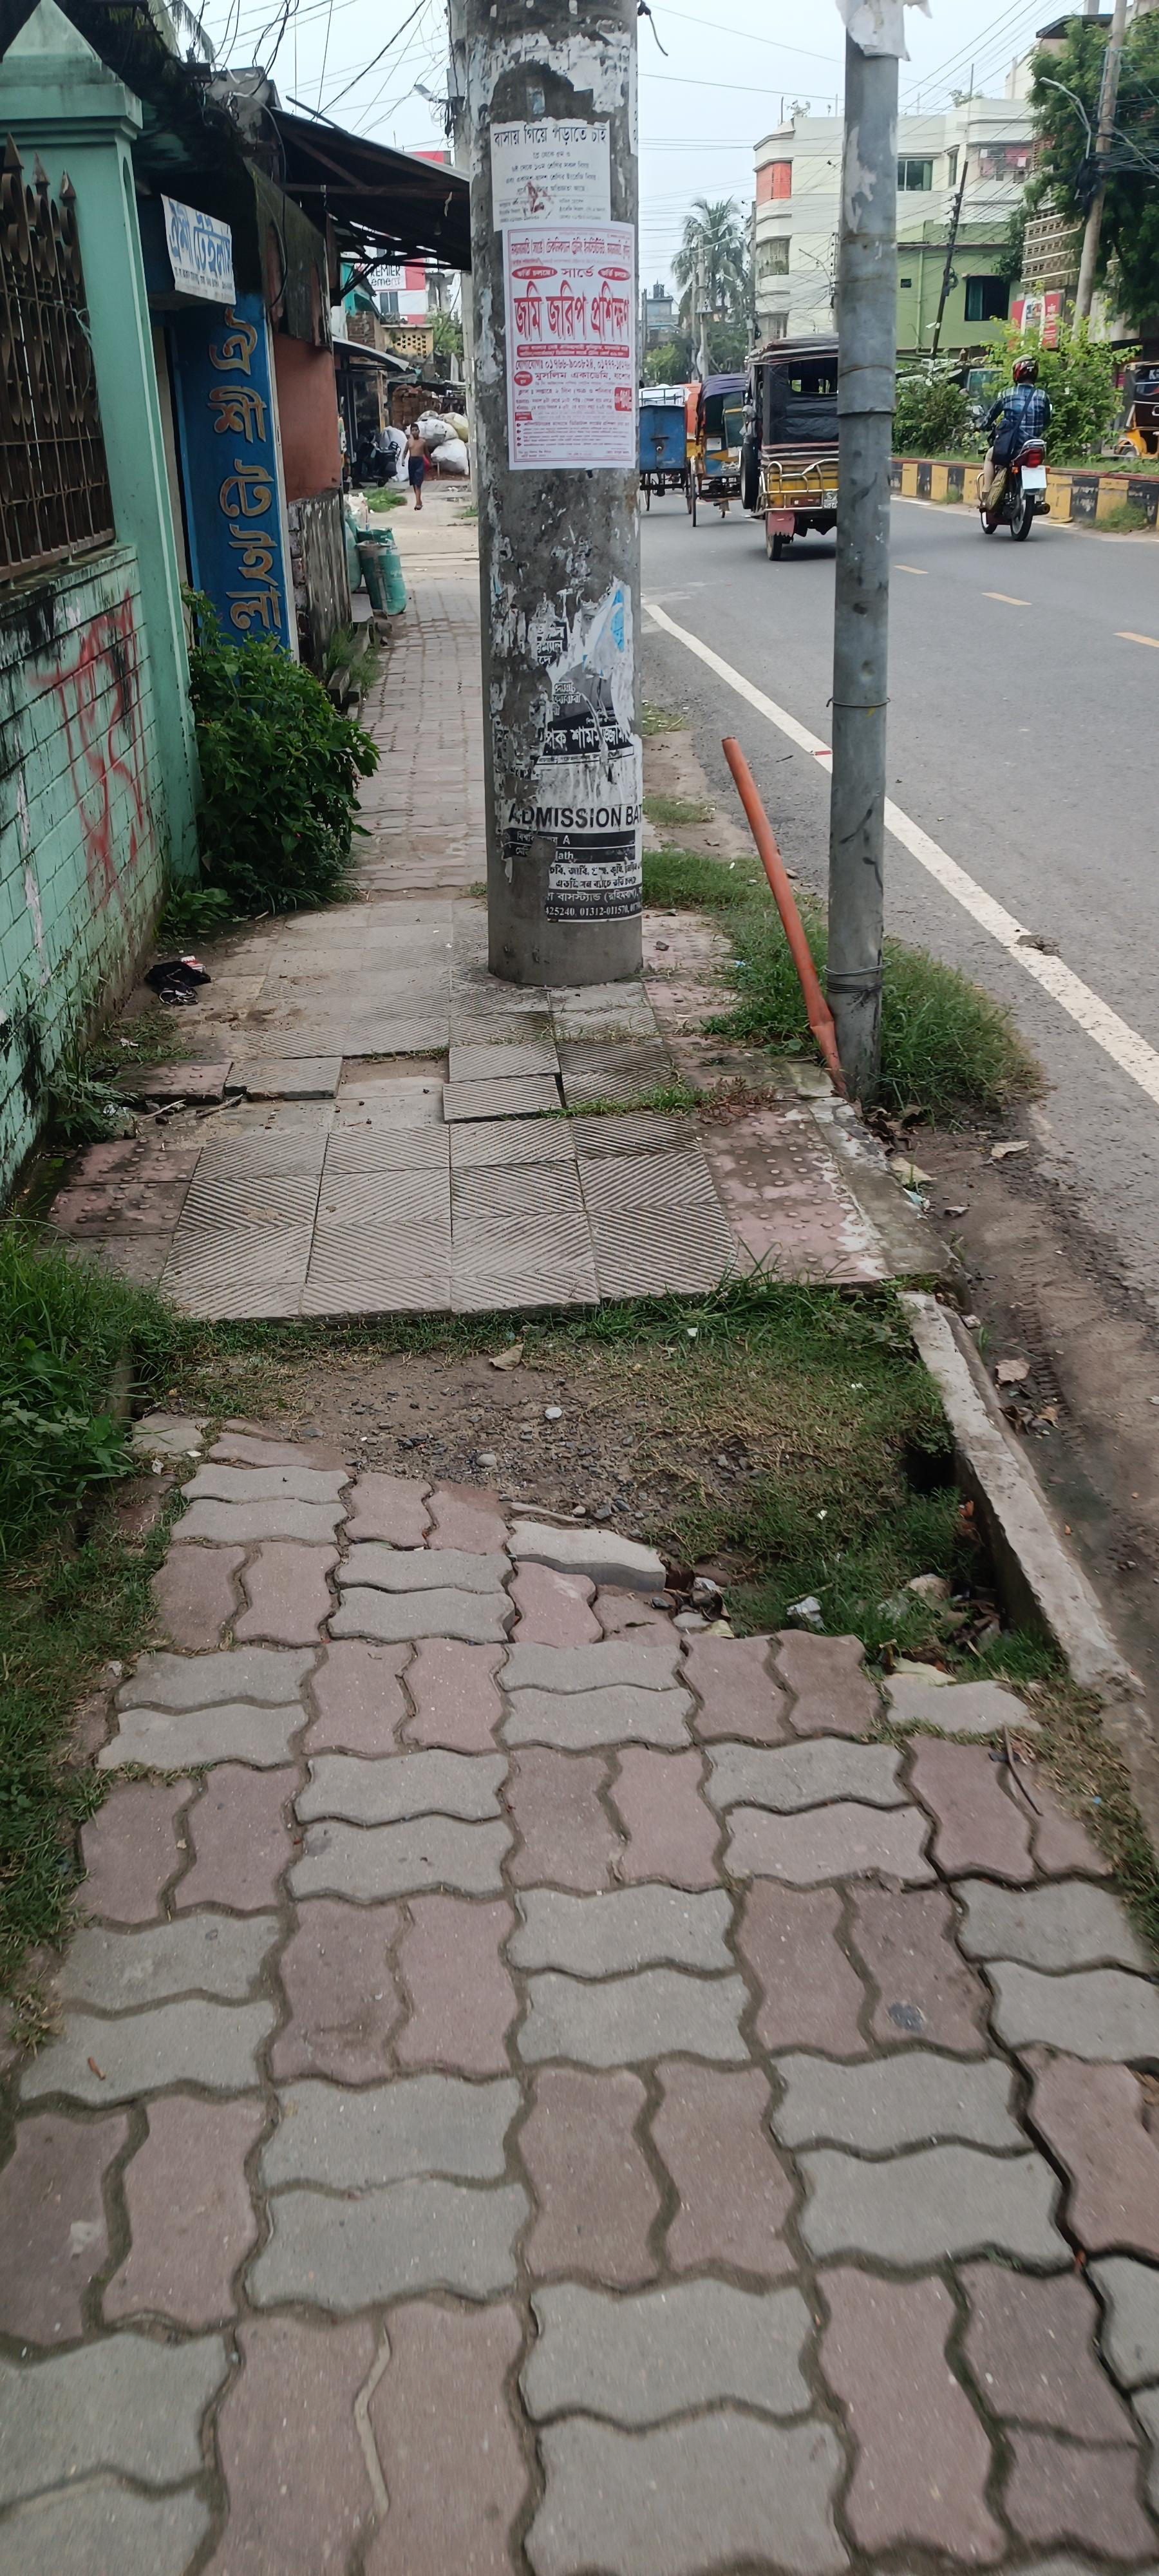Fallen-tree: (978, 430, 1051, 540)
Garbage-bin: (982, 356, 1051, 516), (404, 424, 432, 509)
Light-pole: (447, 3, 645, 986), (837, 174, 928, 1089)
Pothole: (44, 701, 1075, 2530)
Traffic-cone: (745, 335, 841, 560)
